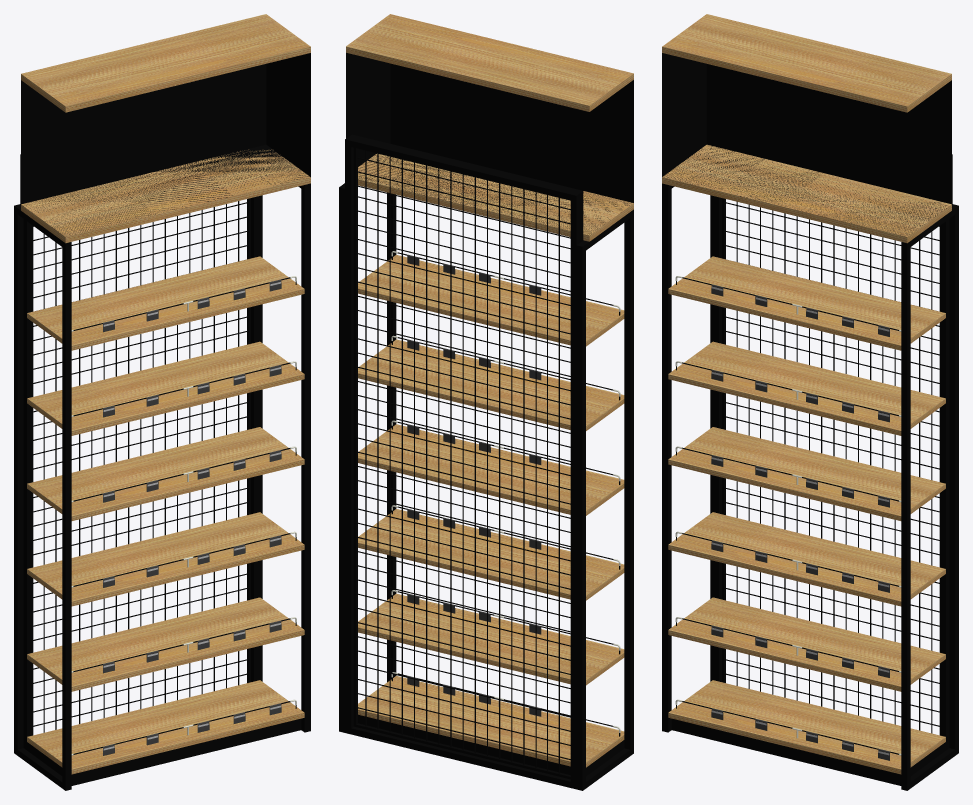
Rendered from shelf.fbx.
3 views of the same model, side by side, from view 1: azimuth 30°, elevation 25°; view 2: azimuth 150°, elevation 25°; view 3: azimuth 330°, elevation 25° (orthographic).
Visible parts, largest first — view 1: Obj3d66-1449979-82-951; view 2: Obj3d66-1449979-82-951; view 3: Obj3d66-1449979-82-951.
Boxes of the visible parts, bbox=[...] form: Obj3d66-1449979-82-951: bbox=[14, 14, 310, 790]; Obj3d66-1449979-82-951: bbox=[339, 14, 633, 790]; Obj3d66-1449979-82-951: bbox=[662, 14, 958, 790].
Size of the model in its own units: 103 by 275 by 37.5.
